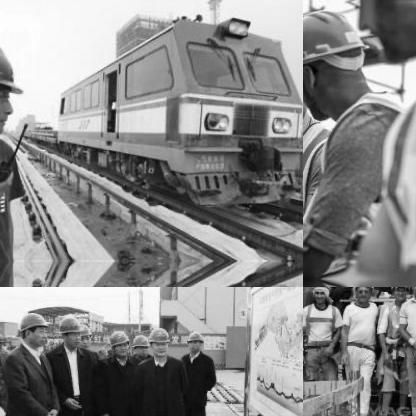Helmet: (303, 6, 378, 120), (0, 27, 27, 144), (18, 308, 48, 348), (56, 314, 82, 348), (147, 326, 168, 356), (110, 328, 128, 358), (309, 287, 331, 308), (186, 327, 204, 351), (79, 322, 93, 352), (132, 332, 148, 356), (353, 287, 374, 303), (389, 287, 409, 302), (0, 329, 4, 350)
